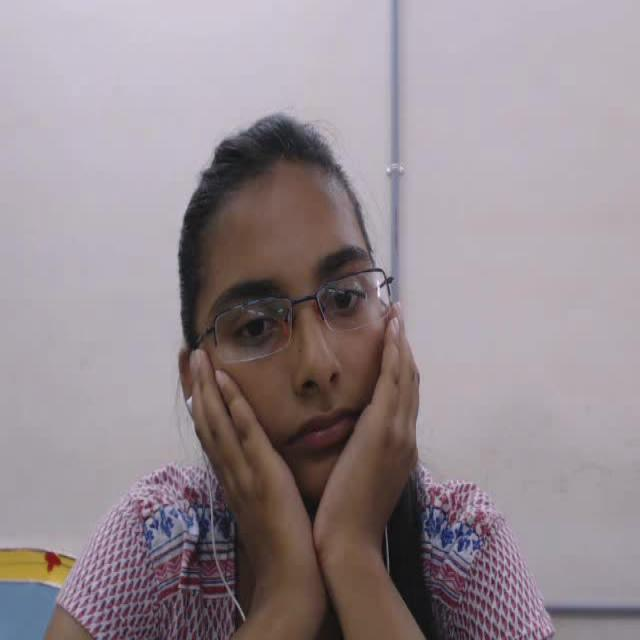Bored: (135, 90, 439, 518)
